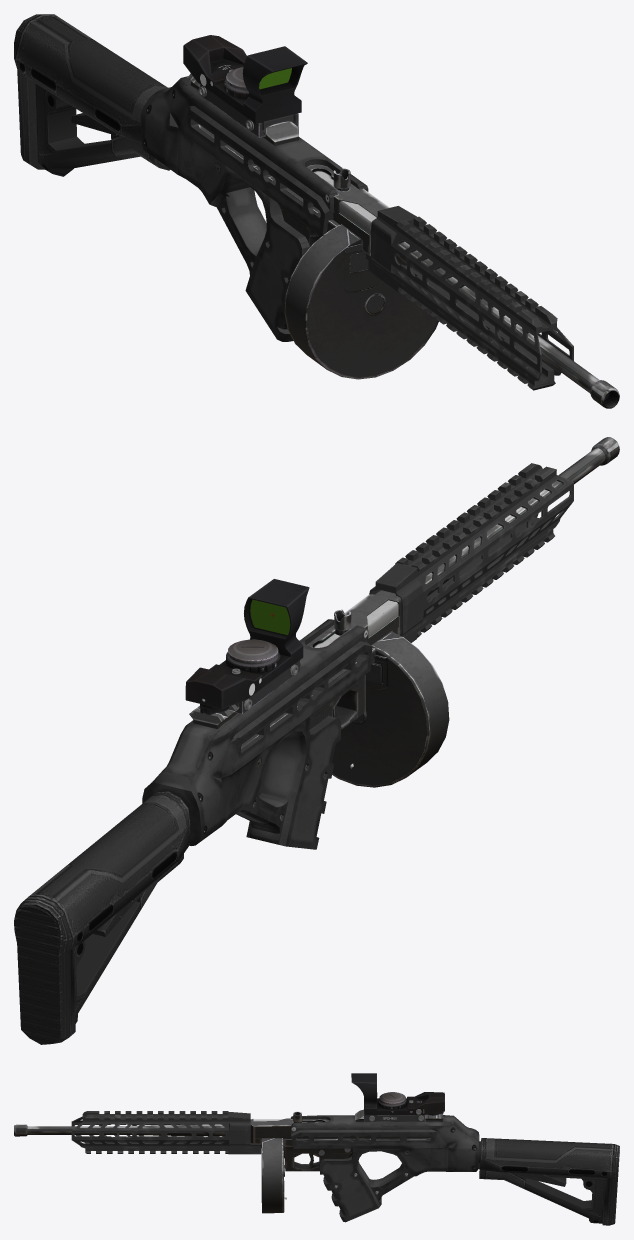
The model's file is Tommy.obj.
3 renders of one model, top to bottom at view 1: azimuth 30°, elevation 25°; view 2: azimuth 150°, elevation 25°; view 3: azimuth 270°, elevation 25°, orthographic. The views are drawn at different scales.
Visible parts, largest first — view 1: Material__36, SMDImporter_Mesh_w_smg_uzi_refe, Material__40, Material__37, Material__38; view 2: SMDImporter_Mesh_w_smg_uzi_refe, Material__40, Material__36, Material__37, Material__38, Material__39; view 3: SMDImporter_Mesh_w_smg_uzi_refe, Material__40, Material__37, Material__36, Material__38.
Part boxes in pixels (x1,y1,x2,y2): Material__36: (187, 73, 619, 408); SMDImporter_Mesh_w_smg_uzi_refe: (141, 76, 368, 341); Material__40: (14, 14, 170, 176); Material__37: (366, 206, 573, 390); Material__38: (183, 35, 307, 137); SMDImporter_Mesh_w_smg_uzi_refe: (142, 619, 372, 849); Material__40: (14, 791, 190, 1044); Material__36: (189, 437, 619, 787); Material__37: (369, 463, 573, 642); Material__38: (185, 579, 309, 714); Material__39: (250, 599, 290, 635); SMDImporter_Mesh_w_smg_uzi_refe: (291, 1115, 479, 1222); Material__40: (478, 1138, 619, 1225); Material__37: (71, 1111, 261, 1154); Material__36: (14, 1109, 443, 1213); Material__38: (351, 1073, 444, 1121).
Size of the model in its own units: 40.64 by 75.15 by 282.
